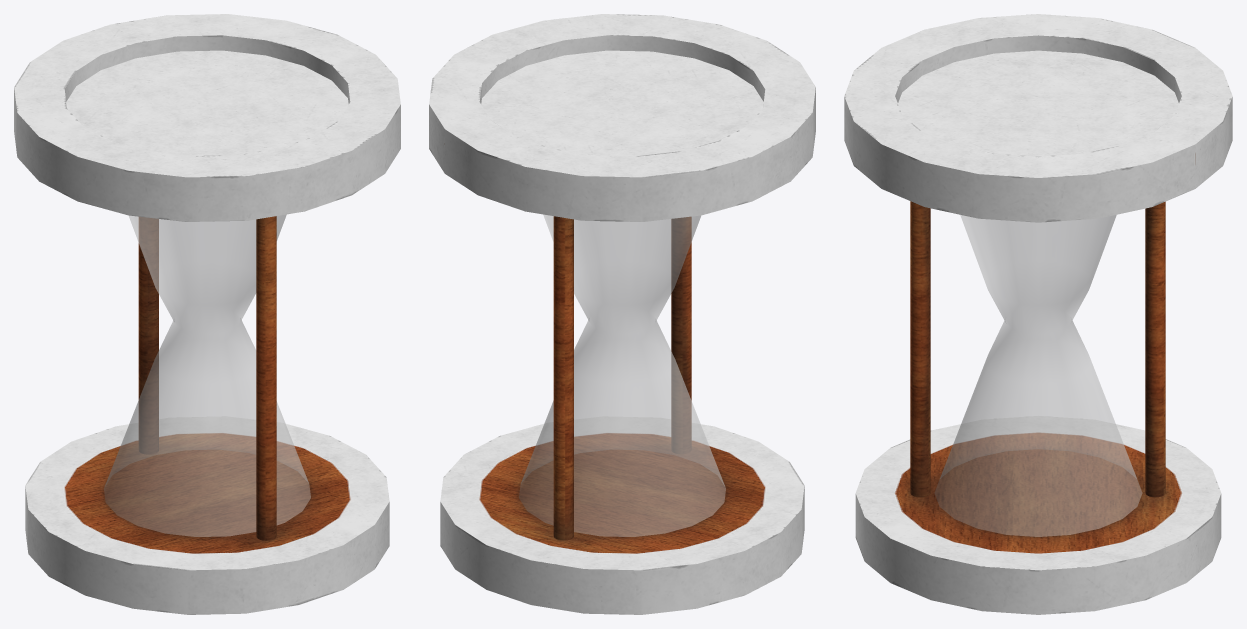
Rendered from Ampulheta_vidro.glb.
The picture shows the model from 3 angles, left to right: view 1: azimuth 30°, elevation 25°; view 2: azimuth 150°, elevation 25°; view 3: azimuth 270°, elevation 25°; orthographic projection.
Parts seen in each view (by area): view 1: pCylinder6; view 2: pCylinder6; view 3: pCylinder6.
Boxes of the visible parts, left/top/right/bottom form: pCylinder6: left=14, top=14, right=400, bottom=614; pCylinder6: left=429, top=14, right=815, bottom=614; pCylinder6: left=844, top=14, right=1232, bottom=614.
Bounding box in the file's own units: 0.0697 × 0.0874 × 0.0697.
Materials: 2 (2 with a texture image).
